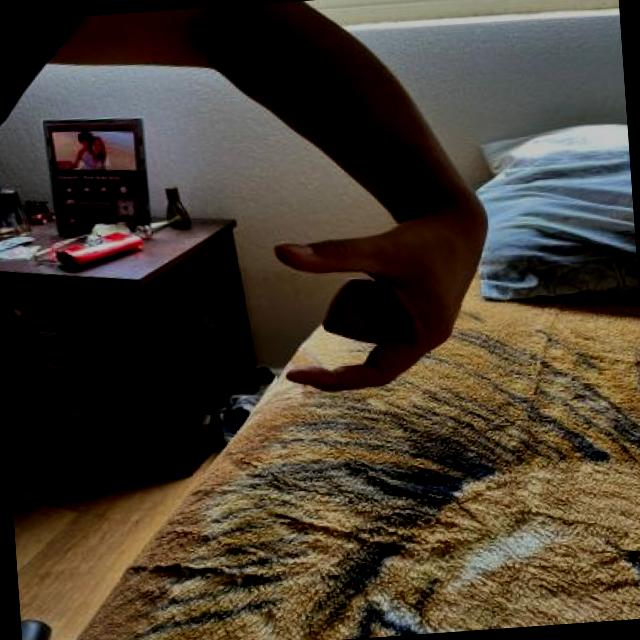G: (263, 218, 492, 406)
